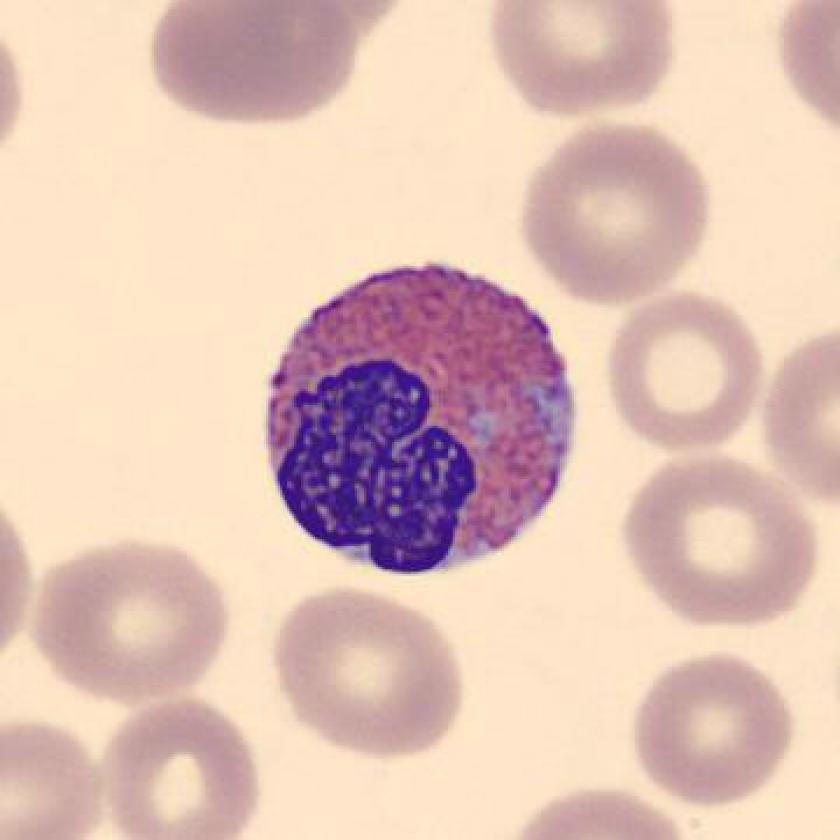eosinophil: (244, 251, 591, 589)
